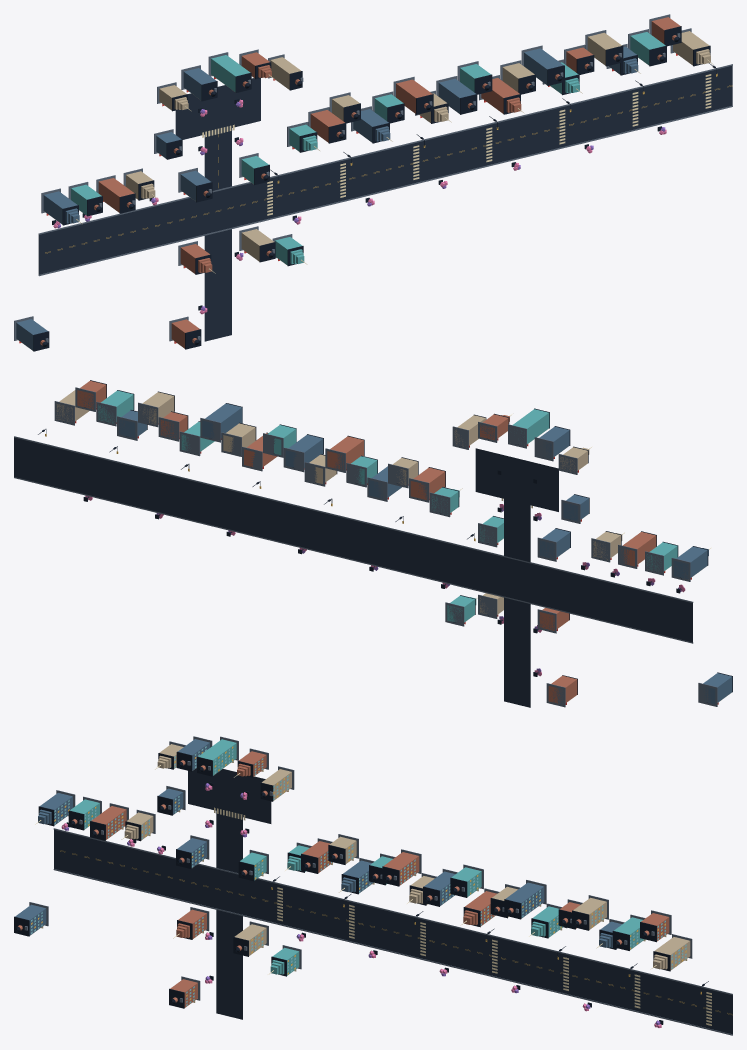
The model's file is manhattan.glb.
The picture shows the model from 3 angles, top to bottom: view 1: azimuth 30°, elevation 25°; view 2: azimuth 150°, elevation 25°; view 3: azimuth 330°, elevation 25°; orthographic projection. The views are drawn at different scales.
Visible parts, largest first — view 1: cel_road_avenue, cel_sidewalk_avenue, cel_cream_avenue, cel_brick_block 15, cel_blue_block 33, cel_stone_block 24, cel_blue_block 09, cel_teal_block 02, cel_blue_block 17, cel_blue_block 13, cel_brick_block 27, cel_brick_block 35 (+11 smaller); view 2: cel_road_avenue, cel_sidewalk_avenue, cel_blue_block 17, cel_blue_block 33, cel_brick_block 11, cel_brick_block 07, cel_blue_block 13, cel_brick_block 35, cel_teal_block 02, cel_teal_block 22, cel_blue_block 25, cel_blue_block 29 (+6 smaller); view 3: cel_road_avenue, cel_sidewalk_avenue, cel_cream_avenue, cel_stone_block 24, cel_blue_block 17, cel_blue_block 33, cel_teal_block 02, cel_brick_block 15, cel_brick_block 11, cel_blue_block 09, cel_brick_block 35, cel_brick_block 27 (+10 smaller).
Boxes of the visible parts, x1,y1,x2,y2 form: cel_road_avenue: [38, 65, 732, 341]; cel_sidewalk_avenue: [38, 64, 732, 276]; cel_cream_avenue: [202, 74, 711, 215]; cel_brick_block 15: [481, 78, 521, 113]; cel_blue_block 33: [43, 191, 79, 224]; cel_stone_block 24: [673, 31, 710, 65]; cel_blue_block 09: [353, 109, 390, 142]; cel_teal_block 02: [211, 55, 250, 91]; cel_blue_block 17: [524, 48, 563, 84]; cel_blue_block 13: [438, 78, 475, 113]; cel_brick_block 27: [180, 244, 212, 273]; cel_brick_block 35: [98, 178, 134, 212]; cel_road_avenue: [14, 437, 692, 707]; cel_sidewalk_avenue: [14, 436, 693, 643]; cel_blue_block 17: [202, 403, 242, 438]; cel_blue_block 33: [673, 546, 708, 579]; cel_brick_block 11: [327, 436, 363, 469]; cel_brick_block 07: [410, 467, 445, 500]; cel_blue_block 13: [285, 434, 323, 467]; cel_brick_block 35: [621, 532, 656, 566]; cel_teal_block 02: [512, 409, 549, 445]; cel_teal_block 22: [98, 390, 133, 423]; cel_blue_block 25: [539, 528, 570, 559]; cel_blue_block 29: [703, 673, 732, 704]; cel_road_avenue: [54, 768, 732, 1034]; cel_sidewalk_avenue: [53, 828, 732, 1035]; cel_cream_avenue: [214, 807, 711, 1025]; cel_stone_block 24: [653, 937, 690, 970]; cel_blue_block 17: [505, 882, 544, 918]; cel_blue_block 33: [38, 793, 72, 825]; cel_teal_block 02: [198, 739, 236, 775]; cel_brick_block 15: [463, 891, 496, 926]; cel_brick_block 11: [383, 852, 419, 885]; cel_blue_block 09: [341, 860, 373, 893]; cel_brick_block 35: [91, 806, 126, 839]; cel_brick_block 27: [176, 909, 206, 938].
Size of the model in its own units: 236 by 89.15 by 20.02.
